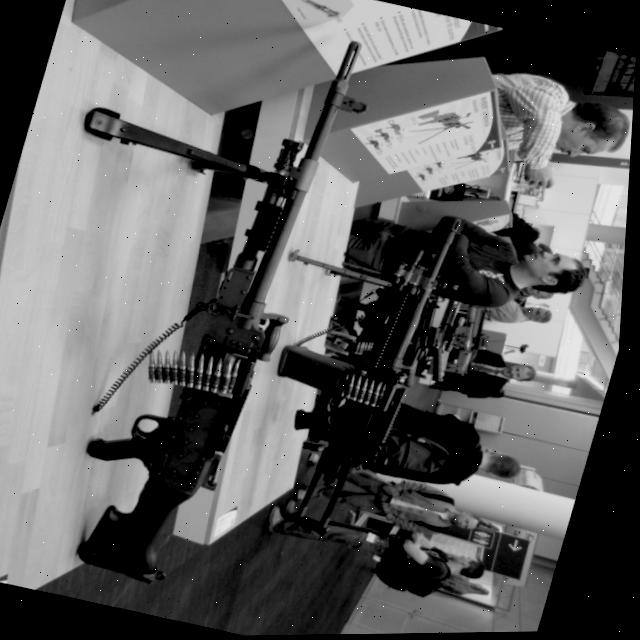firearm: (0, 0, 386, 604), (218, 182, 484, 552), (447, 301, 505, 382), (403, 97, 480, 157)
